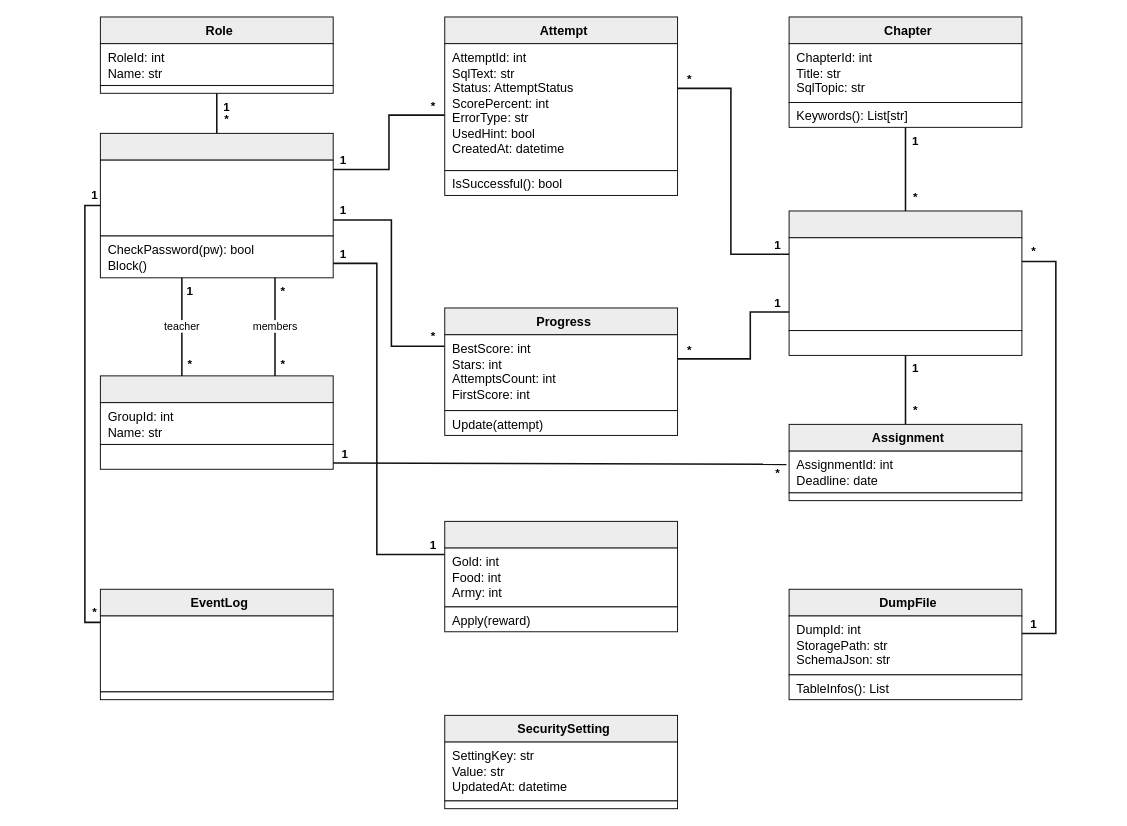
Image size: 1127x826. Some labels were removed from this diagram. The centre of each missing label's shape, as x and y in pixels:
AddStudent(user): pixel 216 456
EventId: int EventType: str Details: str CreatedAt: datetime: pixel 216 653
Mission: pixel 905 224
MissionId: int Title: str TaskText: str ReferenceQuery: str BaseReward: int: pixel 905 284
PlayerResources: pixel 561 534
StudentGroup: pixel 216 389
User: pixel 216 146
UserId: int Login: str PasswordHash: str IsActive: bool: pixel 216 197
ValidateReference(): bool: pixel 905 342
